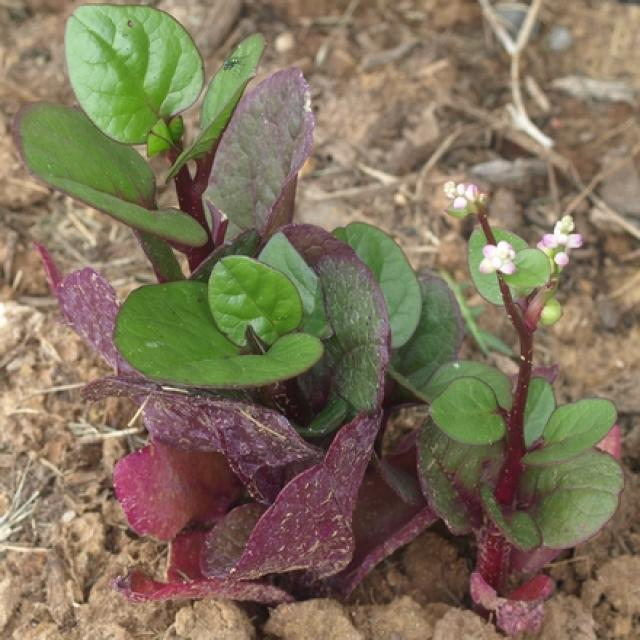Medicinal-Basale: (19, 0, 444, 581), (433, 156, 625, 612)
